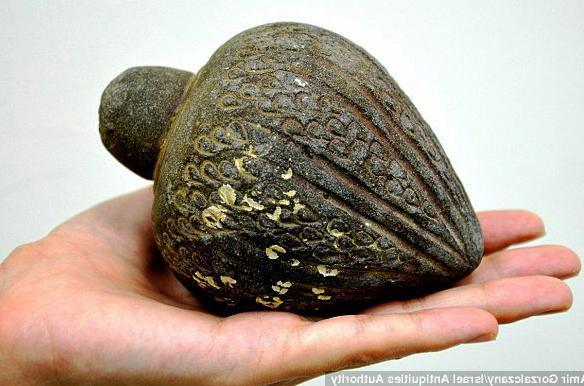Grenade: (98, 20, 482, 317)
